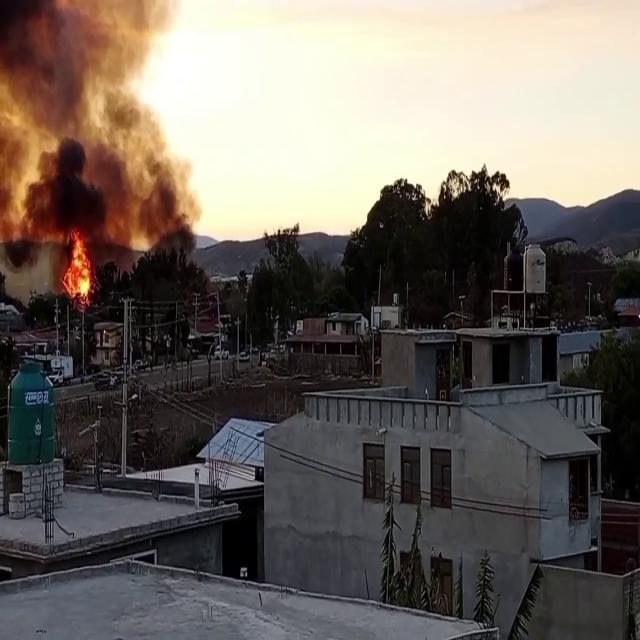Fire: (62, 229, 96, 304)
Smoke: (0, 1, 211, 275)
